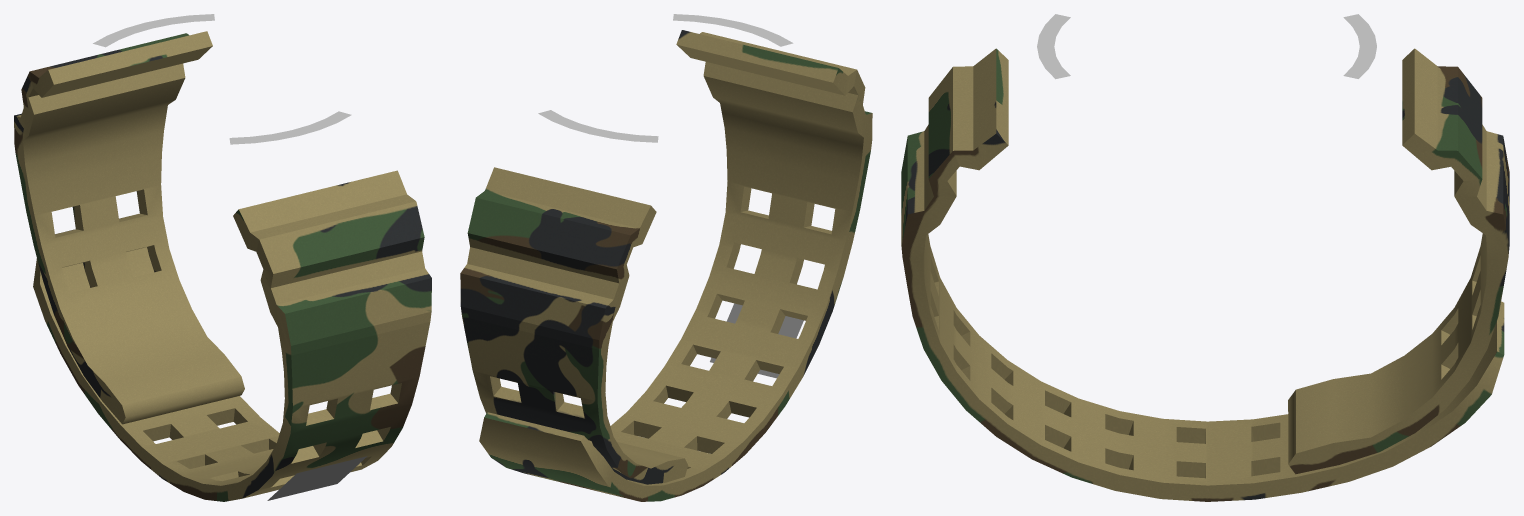
Rendered from Strap.obj.
3 renders of one model, left to right at view 1: azimuth 30°, elevation 25°; view 2: azimuth 150°, elevation 25°; view 3: azimuth 270°, elevation 25°, orthographic. The views are drawn at different scales.
Visible parts, largest first — view 1: Strap:Strap Strap1 group1, group1 PlaceHolder; view 2: Strap:Strap Strap1 group1, group1 PlaceHolder; view 3: Strap:Strap Strap1 group1.
Boxes of the visible parts, x1,y1,x2,y2 form: Strap:Strap Strap1 group1: (14,14,431,501); group1 PlaceHolder: (267,456,367,500); Strap:Strap Strap1 group1: (460,14,872,501); group1 PlaceHolder: (710,303,803,378); Strap:Strap Strap1 group1: (901,14,1509,501).
Bounding box in the file's own units: 2.25 × 5.2 × 6.77.
